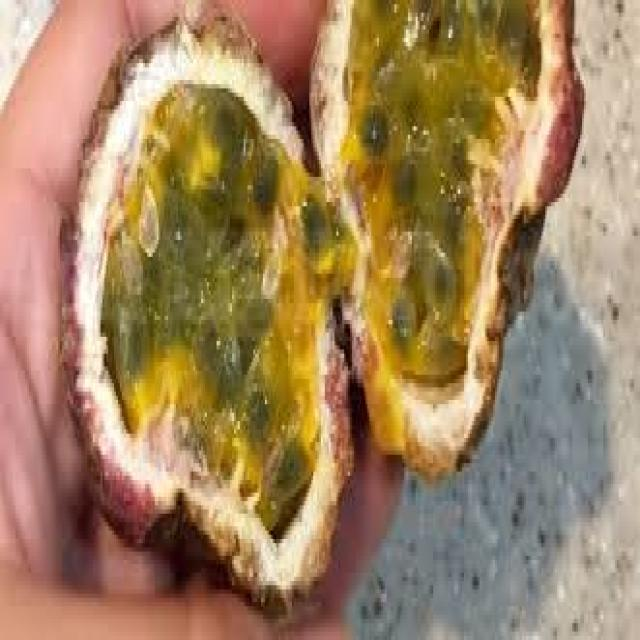organic waste: (56, 13, 352, 606), (305, 0, 582, 472)
